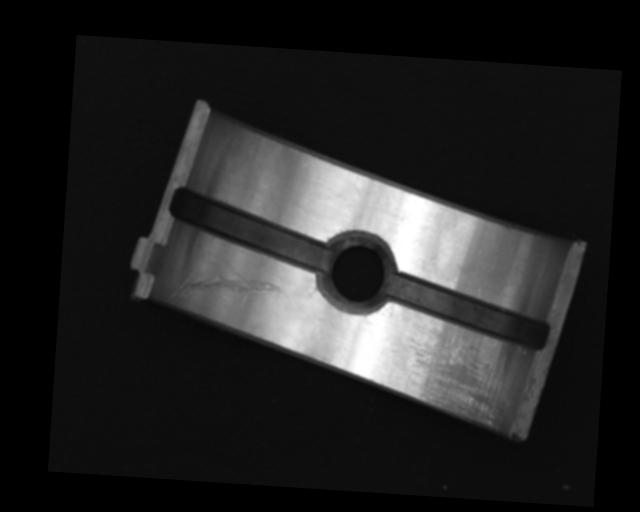gap: (165, 186, 334, 275), (380, 275, 553, 350)
hole: (317, 231, 396, 314)
nick: (167, 255, 285, 308)
scratch: (404, 323, 516, 433)
